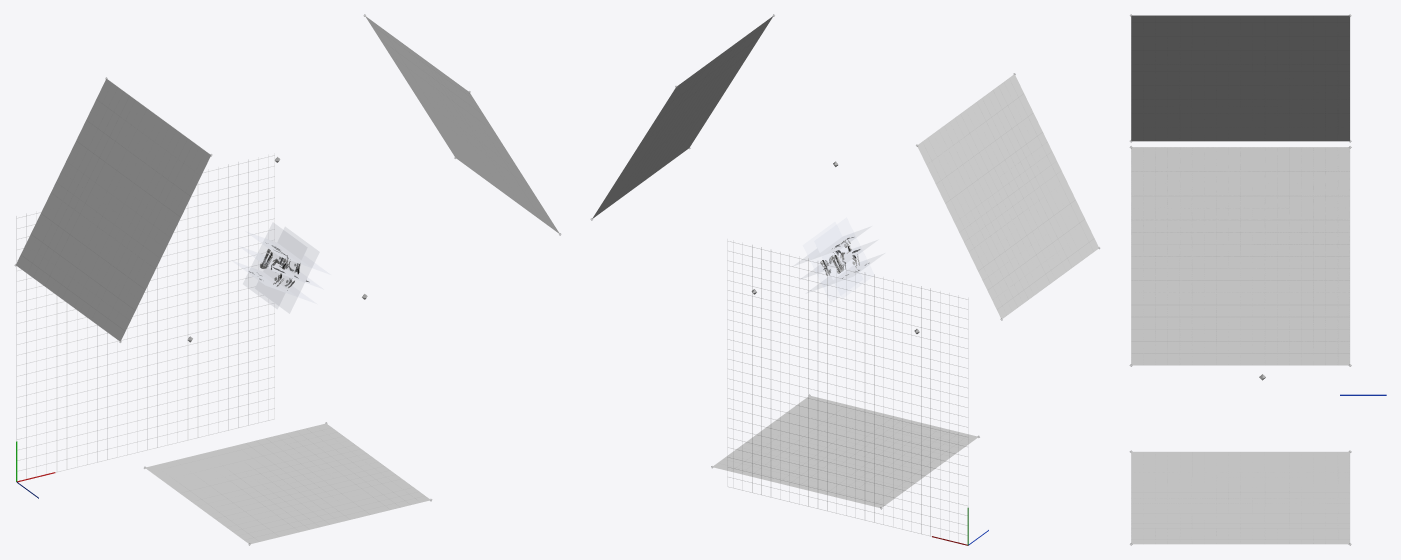
Rendered from faces_60x60_shards.obj.
3 renders of one model, left to right at view 1: azimuth 30°, elevation 25°; view 2: azimuth 150°, elevation 25°; view 3: azimuth 270°, elevation 25°, orthographic. The views are drawn at different scales.
Parts seen in each view (by area): view 1: wall_C, wall_A, wall_B, grid_floor, panel_F0p1, panel_F0p0, grid_wallA, grid_wallC; view 2: wall_C, wall_A, wall_B, grid_floor, panel_F0p1, panel_F0p0, grid_wallC; view 3: wall_B, wall_C, wall_A, grid_wallB.
Part boxes in pixels (<box>): wall_C: <box>16,79,210,341</box>; wall_A: <box>145,423,429,543</box>; wall_B: <box>365,16,559,233</box>; grid_floor: <box>16,155,274,480</box>; panel_F0p1: <box>243,223,306,308</box>; panel_F0p0: <box>256,227,318,313</box>; grid_wallA: <box>177,424,427,540</box>; grid_wallC: <box>17,80,192,337</box>; wall_C: <box>917,74,1098,318</box>; wall_A: <box>713,396,977,507</box>; wall_B: <box>592,16,773,218</box>; grid_floor: <box>727,241,968,536</box>; panel_F0p1: <box>815,218,873,297</box>; panel_F0p0: <box>803,222,862,301</box>; grid_wallC: <box>921,74,1098,317</box>; wall_B: <box>1131,147,1349,365</box>; wall_C: <box>1131,15,1349,141</box>; wall_A: <box>1131,452,1349,544</box>; grid_wallB: <box>1131,147,1349,365</box>.
Size of the model in its own units: 4394 by 3809 by 2115.
